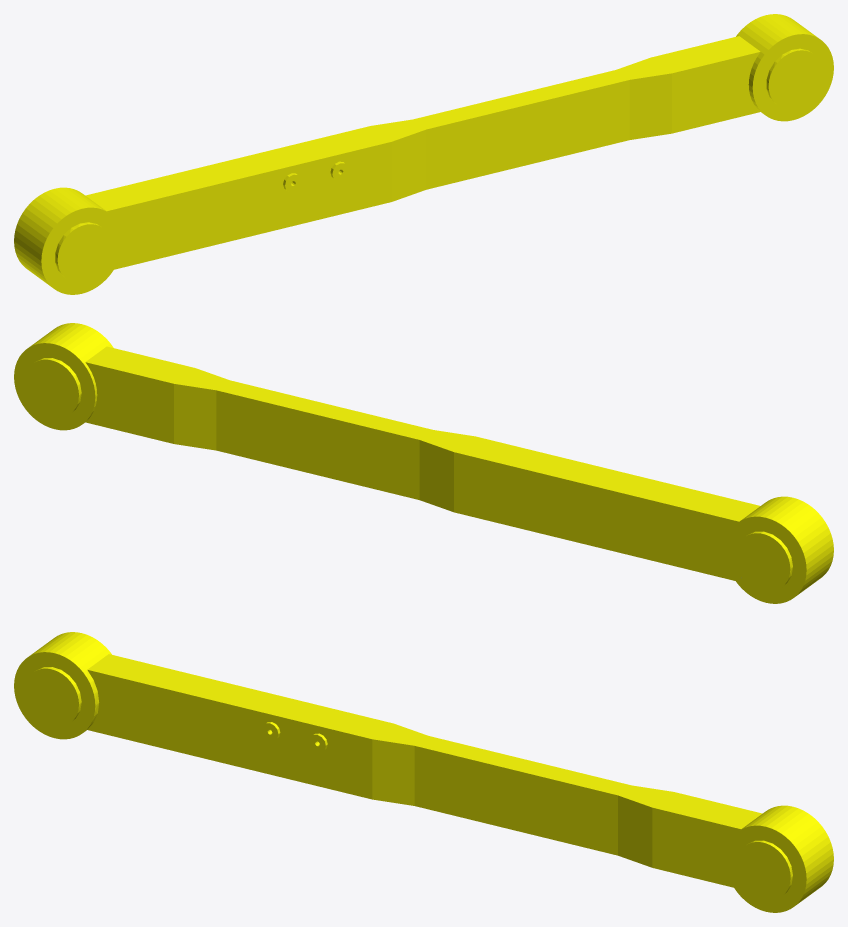
3 views of the same model, one above another, from view 1: azimuth 30°, elevation 25°; view 2: azimuth 150°, elevation 25°; view 3: azimuth 330°, elevation 25° (orthographic).
Parts seen in each view (by area): view 1: node; view 2: node; view 3: node.
Part boxes in pixels (x1,y1,x2,y2): node: (14, 14, 833, 294); node: (14, 323, 833, 603); node: (14, 632, 833, 912).
Bounding box in the file's own units: 1170 × 120 × 140.
